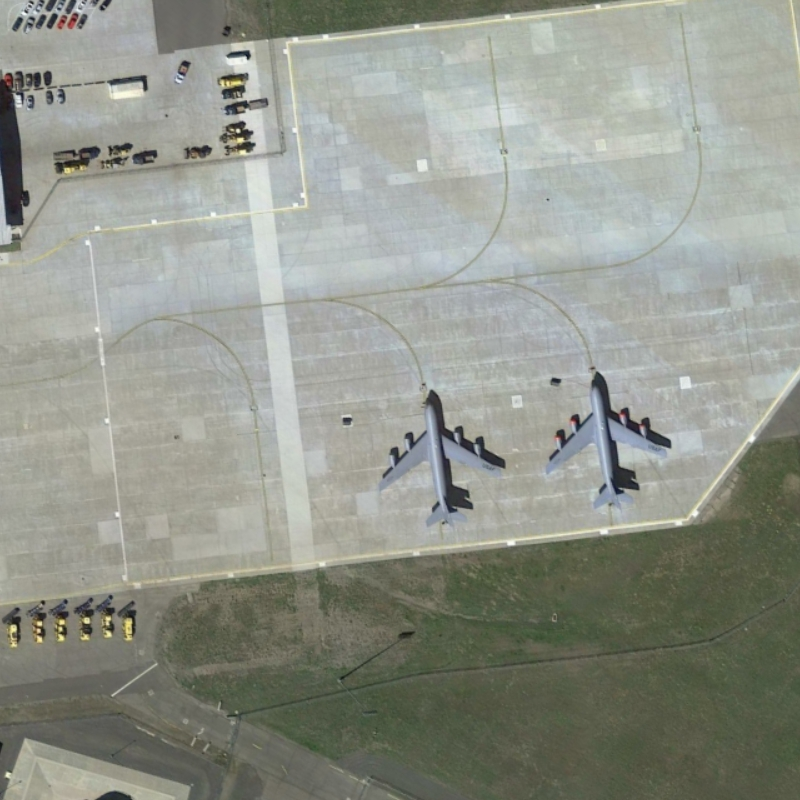A14: (373, 376, 522, 532), (540, 361, 682, 515)
